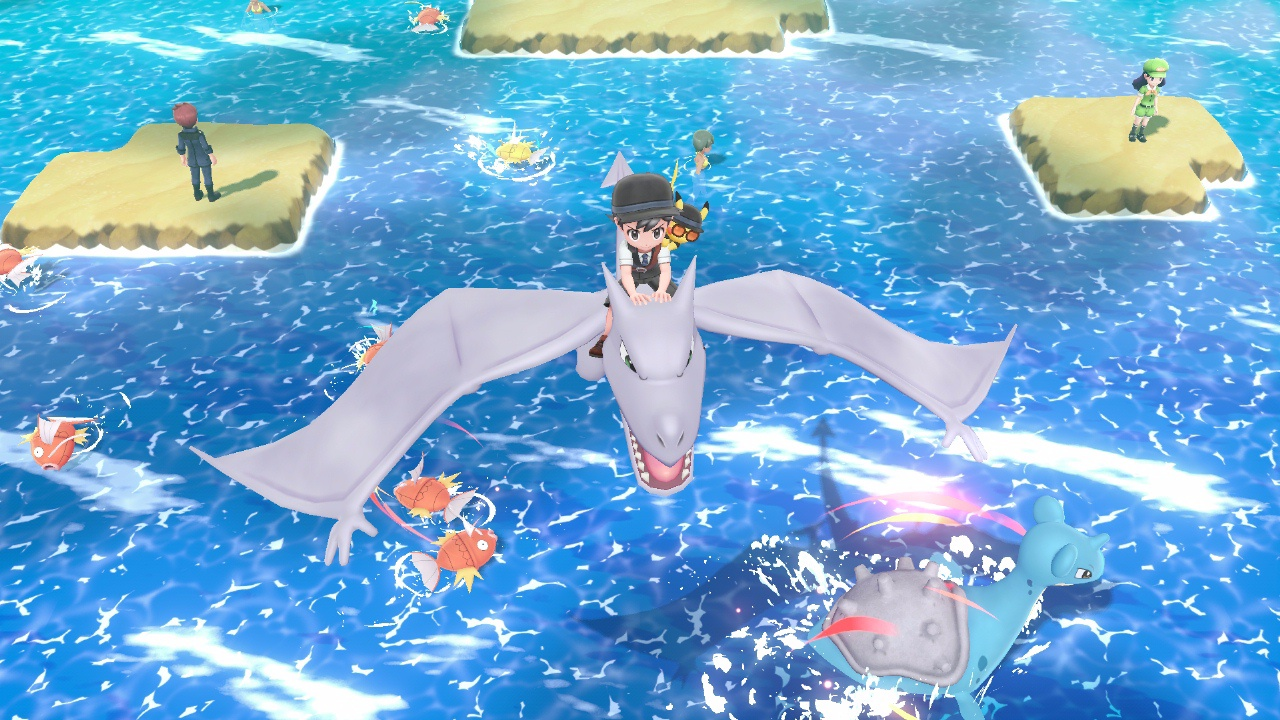Golden: (497, 130, 542, 167)
